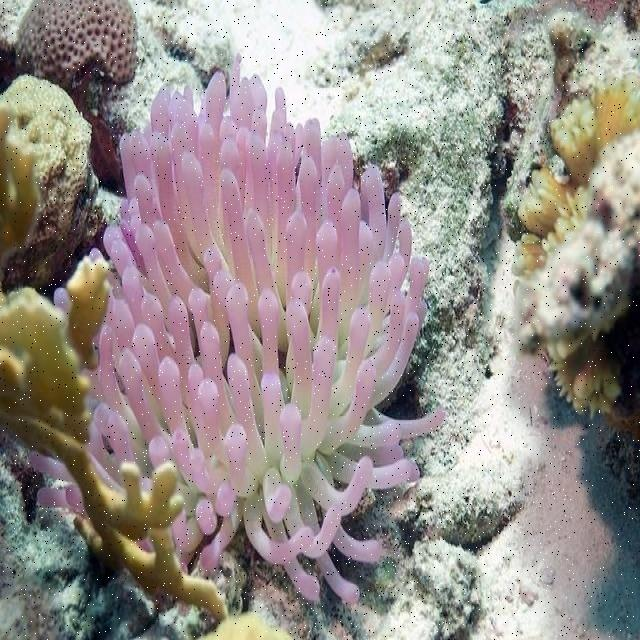reefs: (81, 54, 445, 604), (0, 100, 228, 621), (513, 84, 639, 441), (1, 77, 124, 300), (11, 0, 137, 88)
